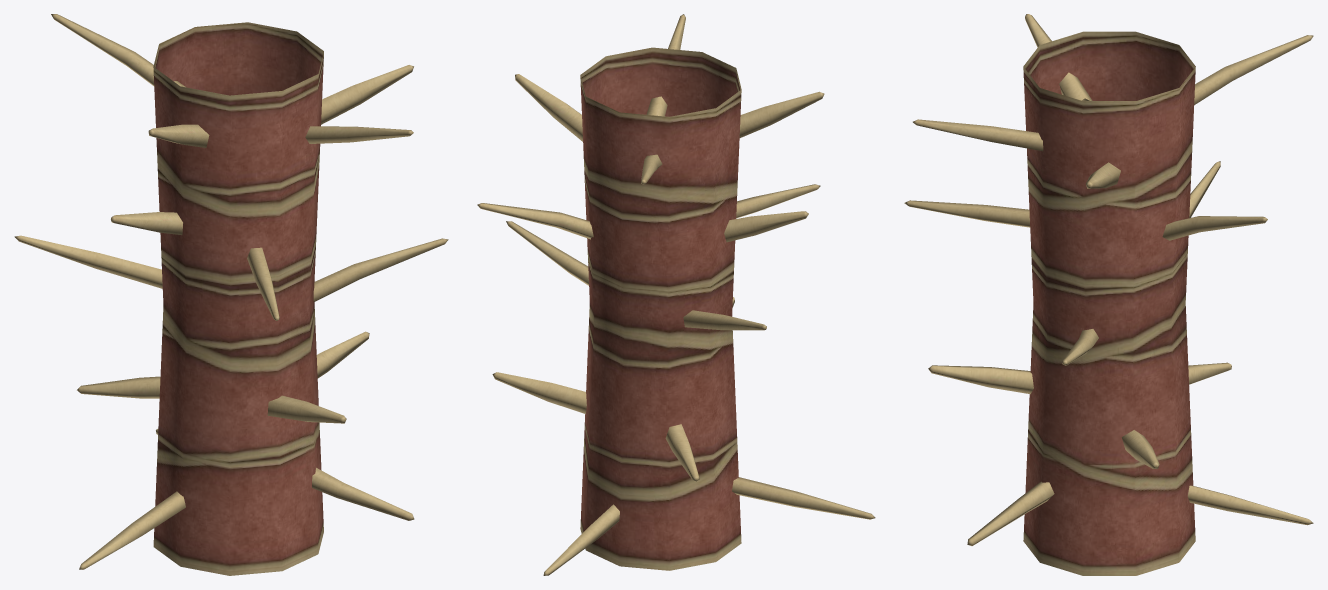
File: grinder.fbx
The picture shows the model from 3 angles, left to right: view 1: azimuth 30°, elevation 25°; view 2: azimuth 150°, elevation 25°; view 3: azimuth 270°, elevation 25°; orthographic projection. The views are drawn at different scales.
Visible parts, largest first — view 1: Grinder; view 2: Grinder; view 3: Grinder.
Boxes of the visible parts, <box> form: Grinder: <box>14,14,448,575</box>; Grinder: <box>477,14,875,575</box>; Grinder: <box>904,14,1313,575</box>.
Bounding box in the file's own units: 59.27 × 71.48 × 55.9.
Materials: 1 (1 with a texture image).
